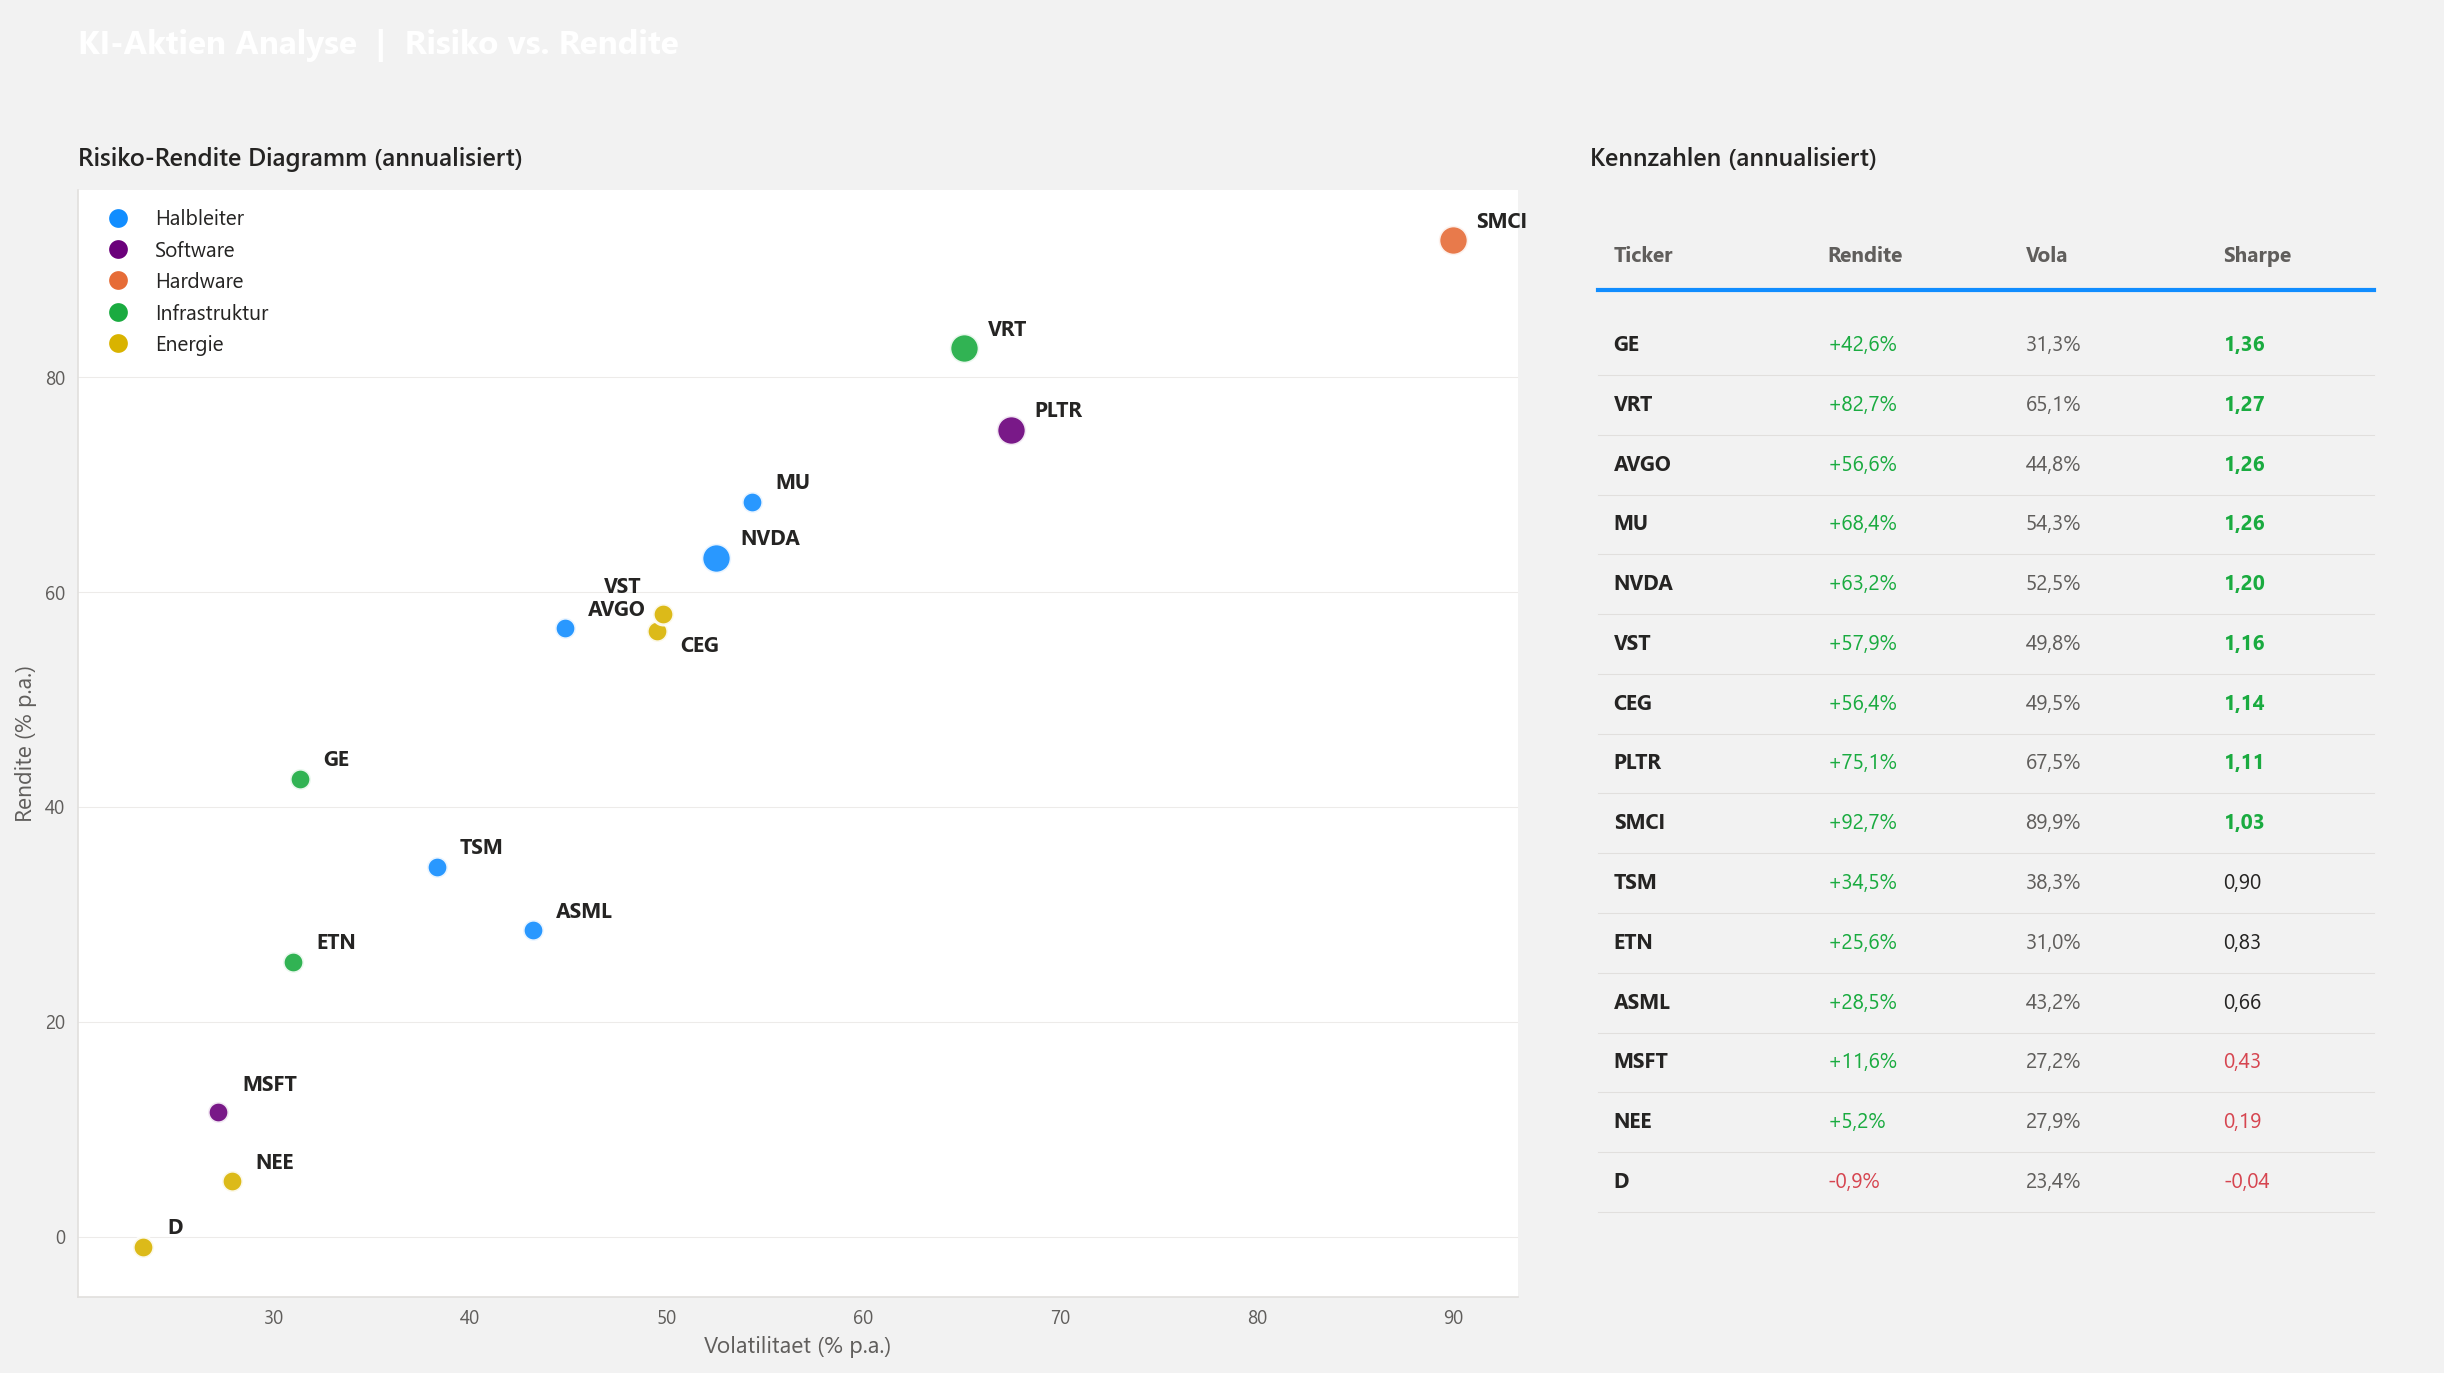

This screenshot's page, from the dashboard's own definition file:
{"tool":"powerbi","page":{"name":"Risiko Rendite","canvas":[1280,720],"ordinal":3},"visuals":[{"type":"scatterChart","title":"Risiko vs. Kursentwicklung KI-naher Aktien","fields":{"X":["Avg(ai_tech_daily.Vol_20d_Ann)"],"Y":["Max(ai_tech_daily.Index_100)"],"Series":["ai_tech_daily.Symbol"]},"box":[359.5,142.7,618.9,458.3],"z":0}]}

Visuals, with their boxes in screenshot pixels (x1, y1, x2, y2), scaled from the page's 1280x720 canvas onto the 2444x1373 screenshot:
"Risiko vs. Kursentwicklung KI-naher Aktien" scatterChart: select_region(686, 272, 1868, 1146)
